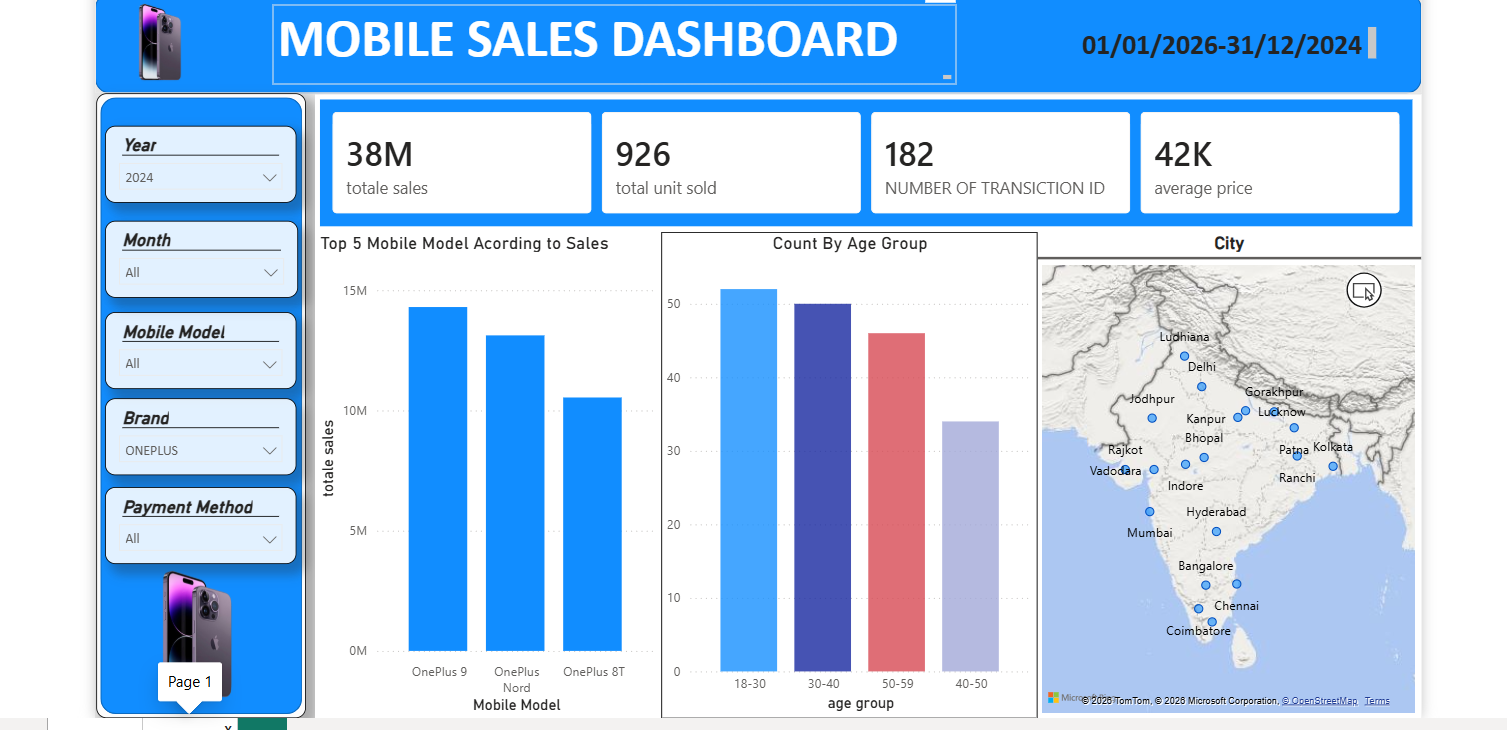

This screenshot's page, from the dashboard's own definition file:
{"tool":"powerbi","page":{"name":"Page 1","canvas":[1280,720],"ordinal":1},"visuals":[{"type":"group","id":"g1","title":"Group 1","box":[0,20.5,1280.3,96.6],"z":0},{"type":"shape","box":[1.2,117,202.7,603.2],"z":0,"group":"g2"},{"type":"group","id":"g2","title":"Group 2","box":[1.2,117,202.7,603.2],"z":1000},{"type":"shape","box":[0,20.5,1280.3,96.6],"z":2000,"group":"g1"},{"type":"slicer","fields":{"Values":["MOBILE SELES DATA.Mobile Model"]},"box":[9.9,328.3,185.1,74.3],"z":2000},{"type":"textbox","title":" MOBILE SALES DASHBOARD","box":[171.3,31.4,659.9,77.2],"z":3000,"group":"g1"},{"type":"slicer","fields":{"Values":["MOBILE SELES DATA.Brand"]},"box":[9.9,411.7,185.1,74.3],"z":3000},{"type":"textbox","box":[942.8,48.6,299.6,41.6],"z":4000,"group":"g1"},{"type":"slicer","fields":{"Values":["MOBILE SELES DATA.Payment Method"]},"box":[9.9,496.5,185.1,74.3],"z":4000},{"type":"image","box":[1.2,20.5,123.1,96.5],"z":5000,"group":"g1"},{"type":"slicer","fields":{"Values":["CUSTOM CALENDER.DATE.Variation.Date Hierarchy.Year"]},"box":[9.9,148.4,185.1,74.3],"z":5000},{"type":"slicer","fields":{"Values":["CUSTOM CALENDER.DATE.Variation.Date Hierarchy.Month"]},"box":[9.2,239.6,186.4,74.3],"z":6000},{"type":"cardVisual","fields":{"Data":["MOBILE SELES DATA.totale sales","MOBILE SELES DATA.total unit sold","MOBILE SELES DATA.NUMBER OF TRANSICTION ID","MOBILE SELES DATA.average price"]},"box":[212.3,118.2,1067.7,132.7],"z":7000},{"type":"map","fields":{"Category":["MOBILE SELES DATA.City"]},"box":[909.7,250.9,370.4,469.3],"z":8000},{"type":"lineClusteredColumnComboChart","title":"Top 5 Mobile Model Acording to Sales","fields":{"Category":["MOBILE SELES DATA.Mobile Model"],"Y":["MOBILE SELES DATA.totale sales"]},"box":[212.3,250.9,334.2,469.3],"z":9000},{"type":"lineClusteredColumnComboChart","title":"Count By Age Group","fields":{"Category":["MOBILE SELES DATA.age group"],"Y":["CountNonNull(MOBILE SELES DATA.age group)"]},"box":[546.5,250.9,363.1,469.3],"z":10000},{"type":"image","box":[14.5,560.6,168.9,159.7],"z":11001,"group":"g2"}]}

Visuals, with their boxes on the page's 1280x720 design canvas (x1, y1, x2, y2). These are canvas units, not pixel positions in the 1507x730 screenshot, which may show the page scaled, cropped or inside an application window:
"Group 1" group: bbox(0, 20, 1280, 117)
shape: bbox(1, 117, 204, 720)
"Group 2" group: bbox(1, 117, 204, 720)
shape: bbox(0, 20, 1280, 117)
slicer - MOBILE SELES DATA.Mobile Model: bbox(10, 328, 195, 403)
" MOBILE SALES DASHBOARD" textbox: bbox(171, 31, 831, 109)
slicer - MOBILE SELES DATA.Brand: bbox(10, 412, 195, 486)
textbox: bbox(943, 49, 1242, 90)
slicer - MOBILE SELES DATA.Payment Method: bbox(10, 496, 195, 571)
image: bbox(1, 20, 124, 117)
slicer - CUSTOM CALENDER.DATE.Variation.Date Hierarchy.Year: bbox(10, 148, 195, 223)
slicer - CUSTOM CALENDER.DATE.Variation.Date Hierarchy.Month: bbox(9, 240, 196, 314)
cardVisual - MOBILE SELES DATA.totale sales x MOBILE SELES DATA.total unit sold: bbox(212, 118, 1280, 251)
map - MOBILE SELES DATA.City: bbox(910, 251, 1280, 720)
"Top 5 Mobile Model Acording to Sales" lineClusteredColumnComboChart: bbox(212, 251, 546, 720)
"Count By Age Group" lineClusteredColumnComboChart: bbox(546, 251, 910, 720)
image: bbox(14, 561, 183, 720)
